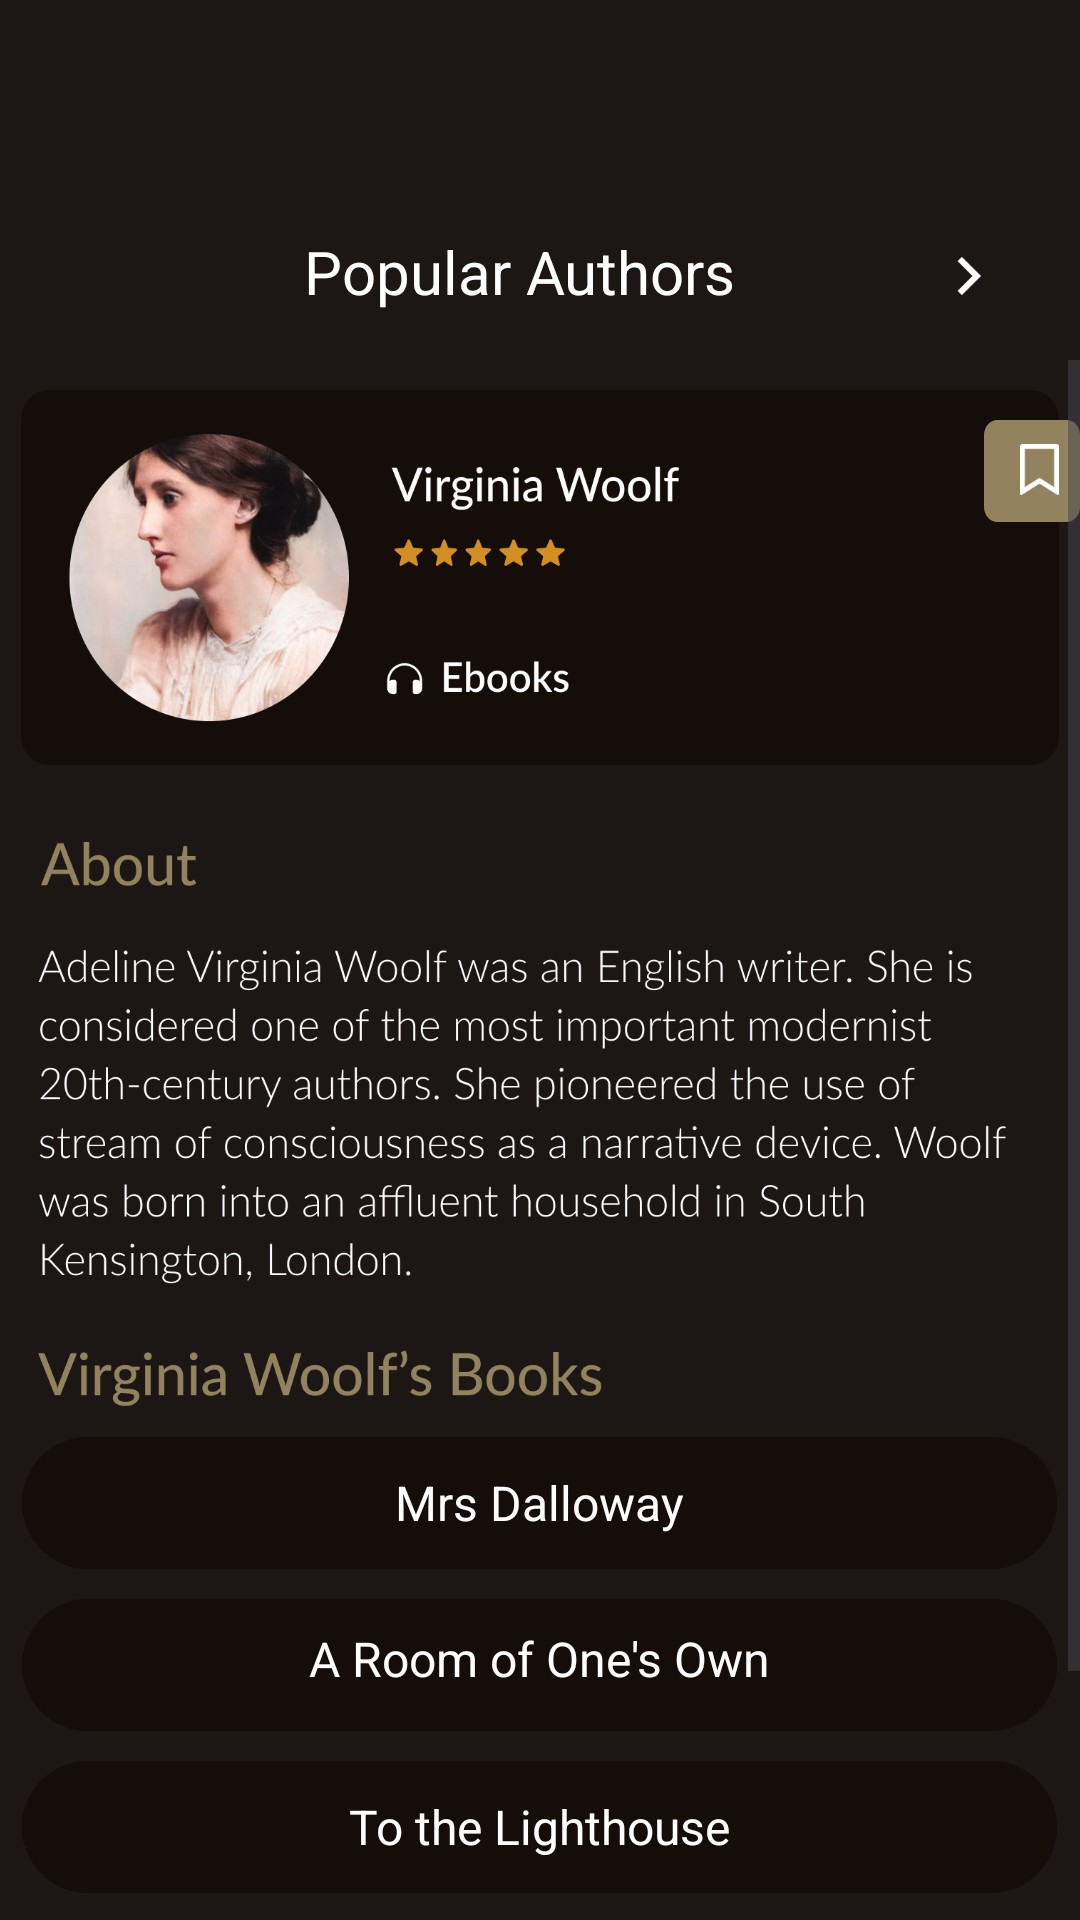

Icon bounding boxes for this 1080w x 1920h phone screenshot, format (x1, y1, x2, y2):
arrowrightine: (957, 257, 981, 295)
